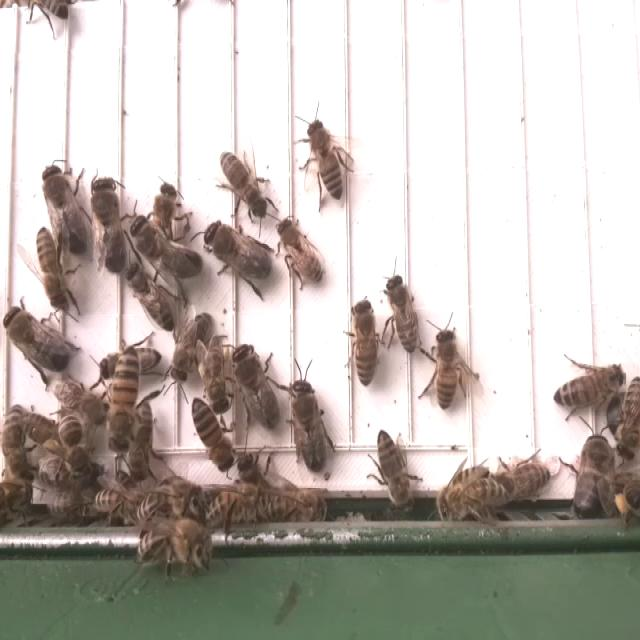Drone: (2, 299, 73, 374), (40, 160, 92, 258), (230, 340, 283, 434), (131, 212, 205, 279), (202, 218, 274, 284), (88, 170, 127, 277), (287, 374, 327, 476), (573, 432, 617, 520)
Worker: (300, 111, 356, 204), (22, 223, 74, 313), (369, 430, 426, 510), (552, 354, 622, 416), (105, 345, 144, 456), (426, 321, 474, 409), (123, 259, 179, 333), (378, 268, 422, 362), (275, 214, 328, 292), (164, 312, 218, 388), (214, 151, 270, 223), (189, 392, 234, 476), (434, 475, 507, 520), (347, 292, 379, 394), (0, 402, 37, 488), (260, 490, 327, 526), (201, 338, 231, 417), (58, 411, 93, 472)
